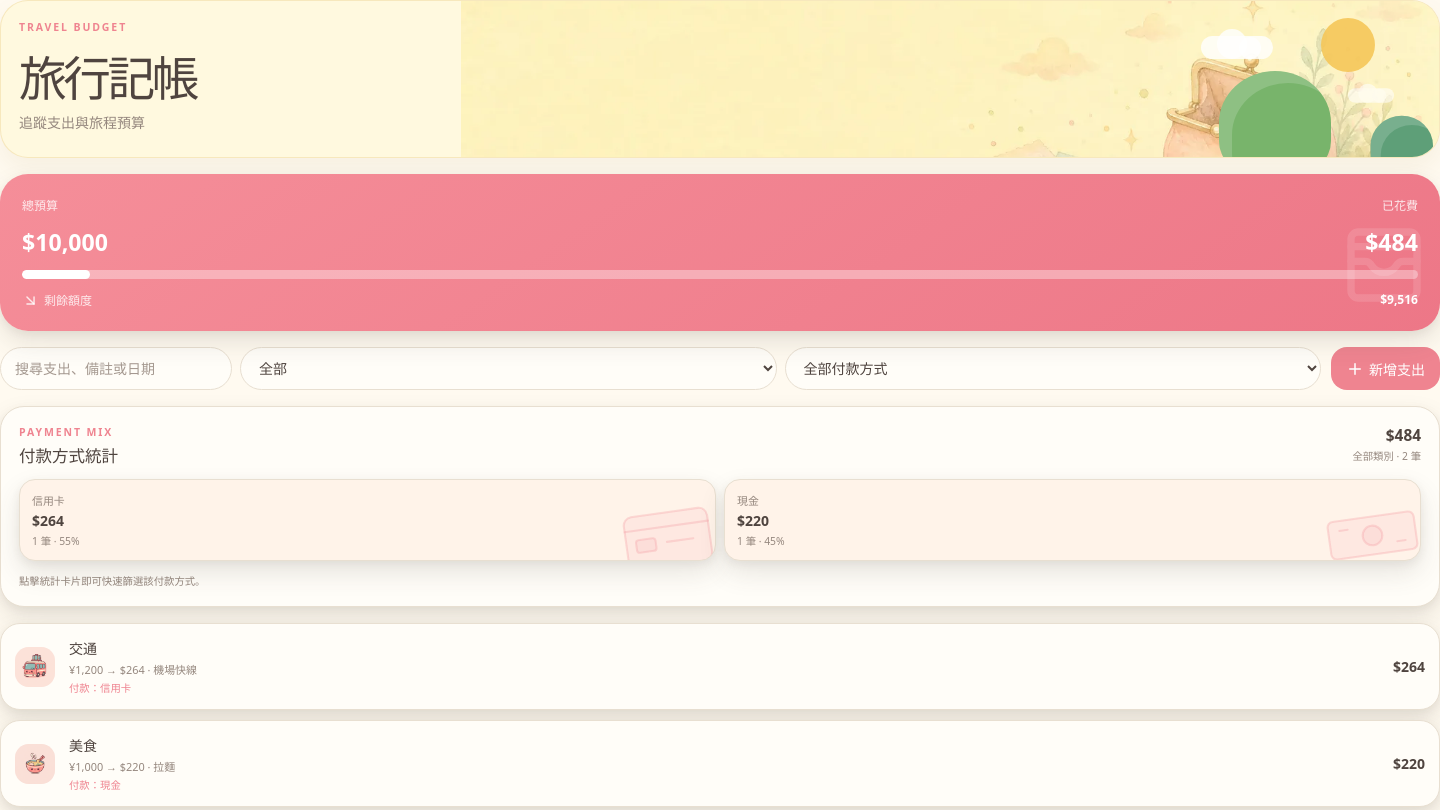
Test case: ExpensePage › filters expenses by payment method and shows payment statistics
Expected: the heading "付款方式統計" is shown, [19,443,118,467]
Expected: the text "付款：信用卡" is shown, [69,681,131,695]
Select "信用卡" in the dropdown named "依付款方式篩選": point(1053, 368) [784,347,1321,390]
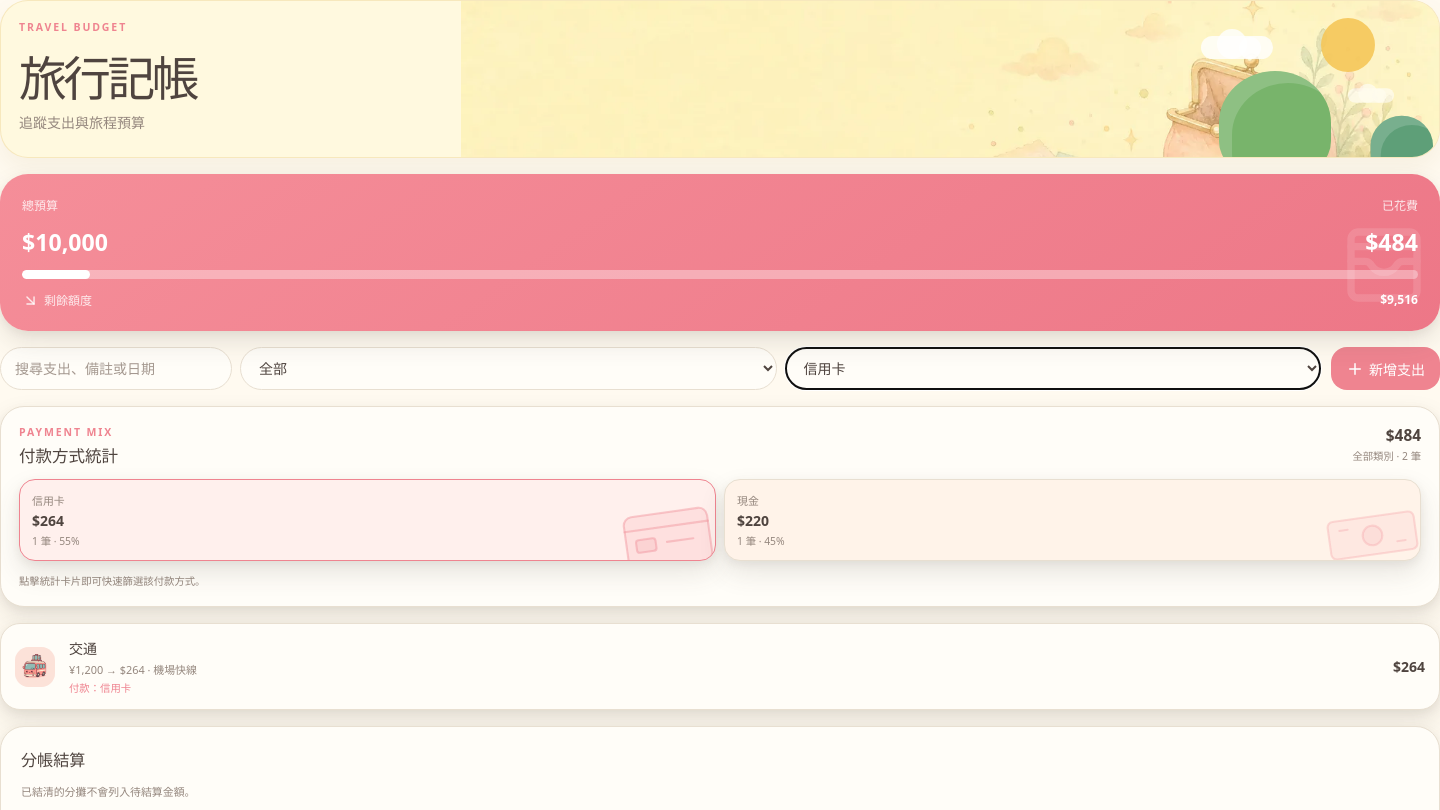
Expected: the button with aria-label "編輯交通支出" is shown, [0,623,1439,710]
Expected: the button "編輯美食支出" is gone
